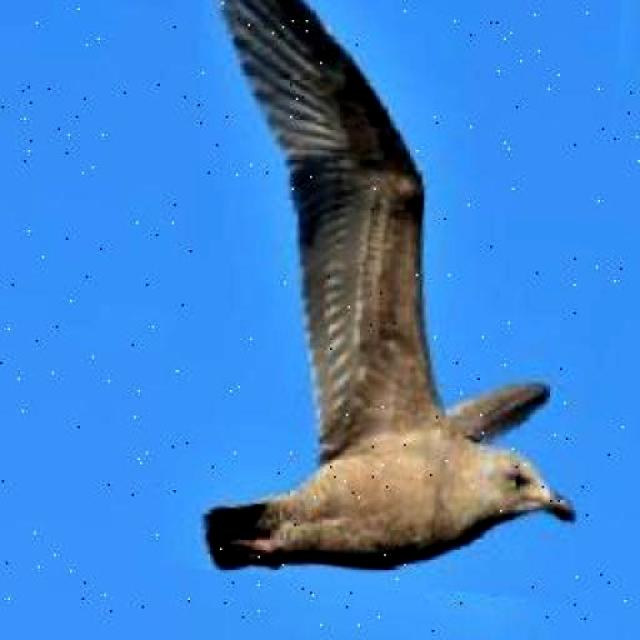airplane: (152, 0, 626, 601)
